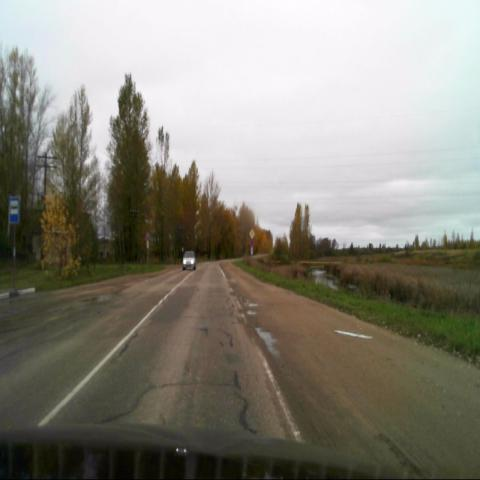5_16: (8, 197, 20, 224)
